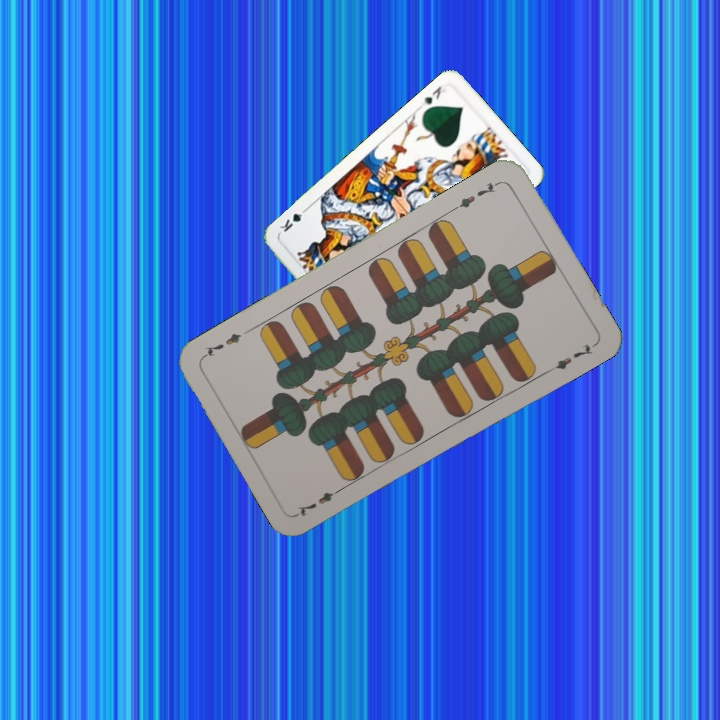E7: (293, 482, 347, 519), (450, 177, 503, 213)
GK: (418, 82, 448, 109)
